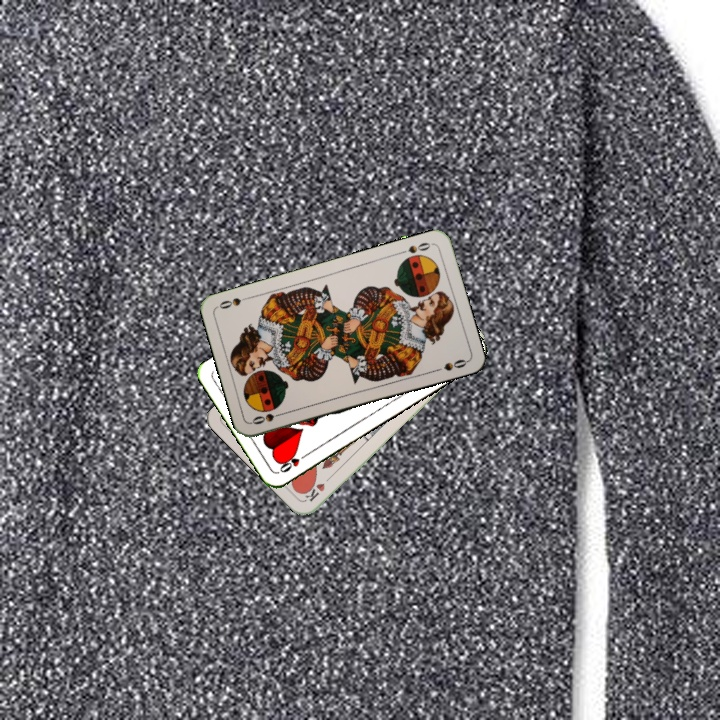HK: (301, 471, 335, 505)
HO: (275, 448, 312, 475)
SO: (248, 408, 288, 427), (395, 238, 435, 257)
